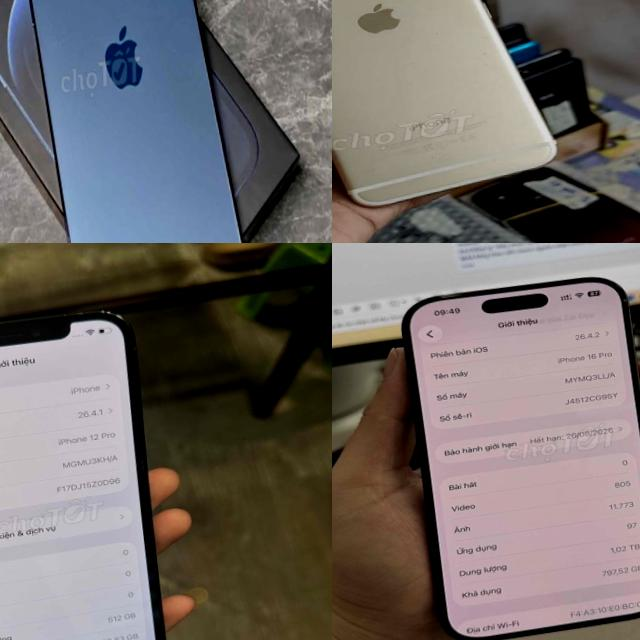gen_12_13: (0, 288, 203, 640), (0, 0, 265, 243)
gen_16: (403, 277, 640, 640)
gen_6: (332, 0, 557, 205)
scratch: (474, 46, 494, 60)
